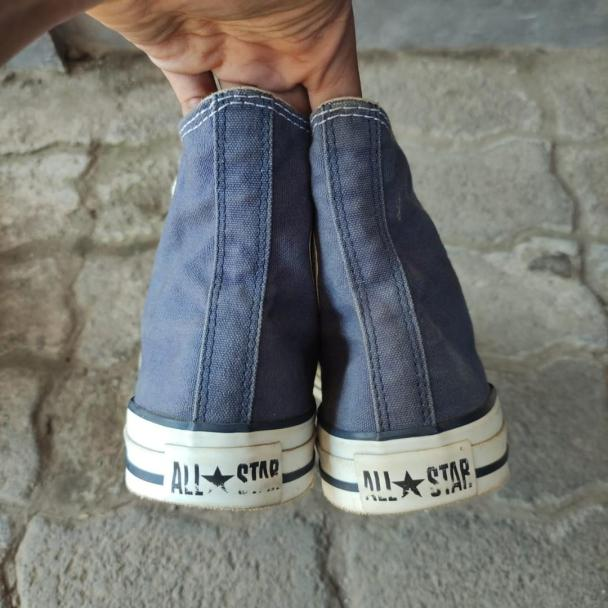Sepatu: (308, 89, 518, 513), (140, 92, 322, 517)
